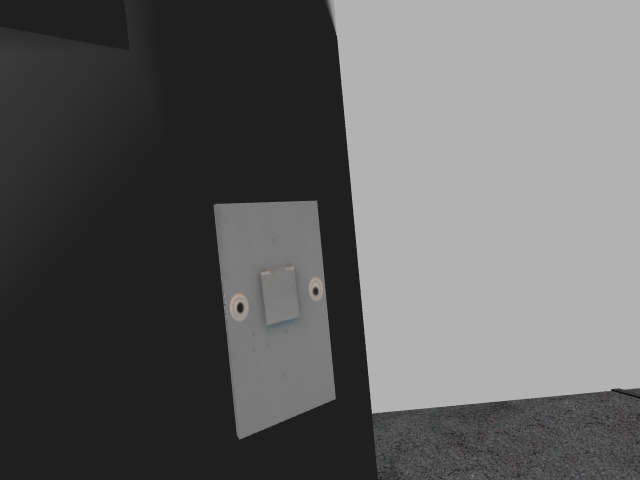facade: (230, 264, 322, 329)
